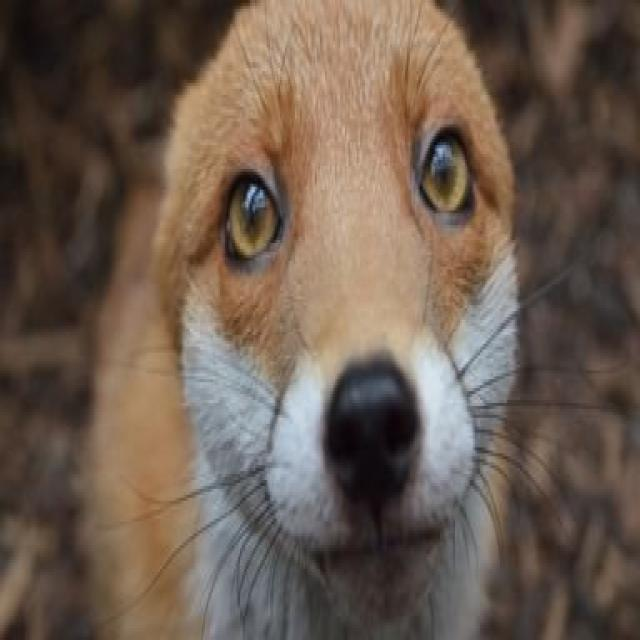fox: (89, 0, 576, 640)
